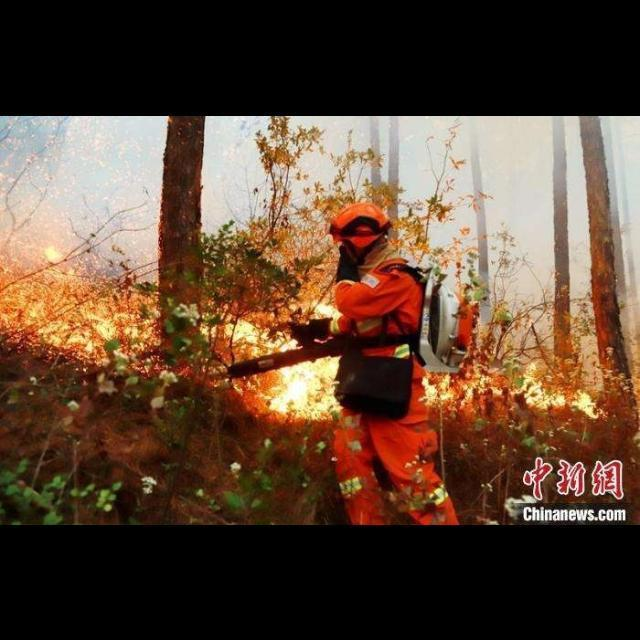Fire: (1, 220, 170, 380), (200, 297, 344, 421), (422, 359, 606, 419)
Smoke: (202, 116, 640, 328), (2, 116, 168, 268)
